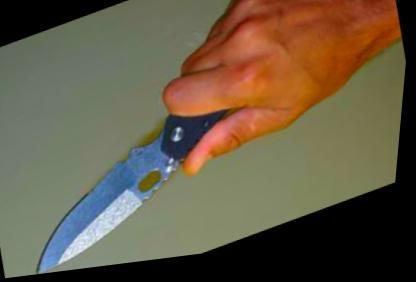knife: (4, 81, 284, 276)
